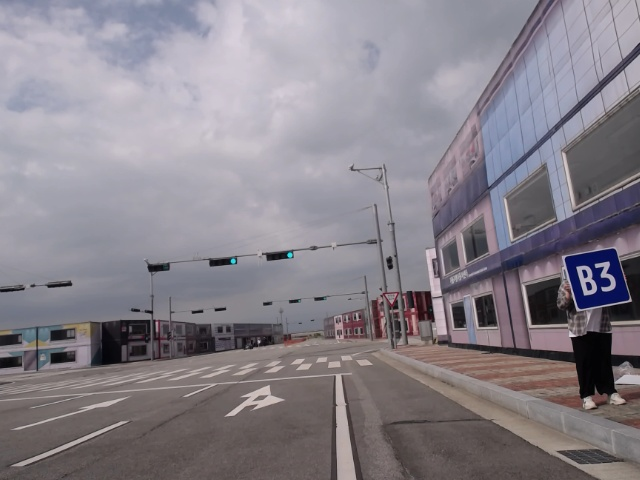delivery_b3: (560, 247, 631, 312)
straight_green_4: (208, 254, 240, 268), (264, 250, 296, 261), (312, 295, 330, 303), (287, 298, 302, 305)
